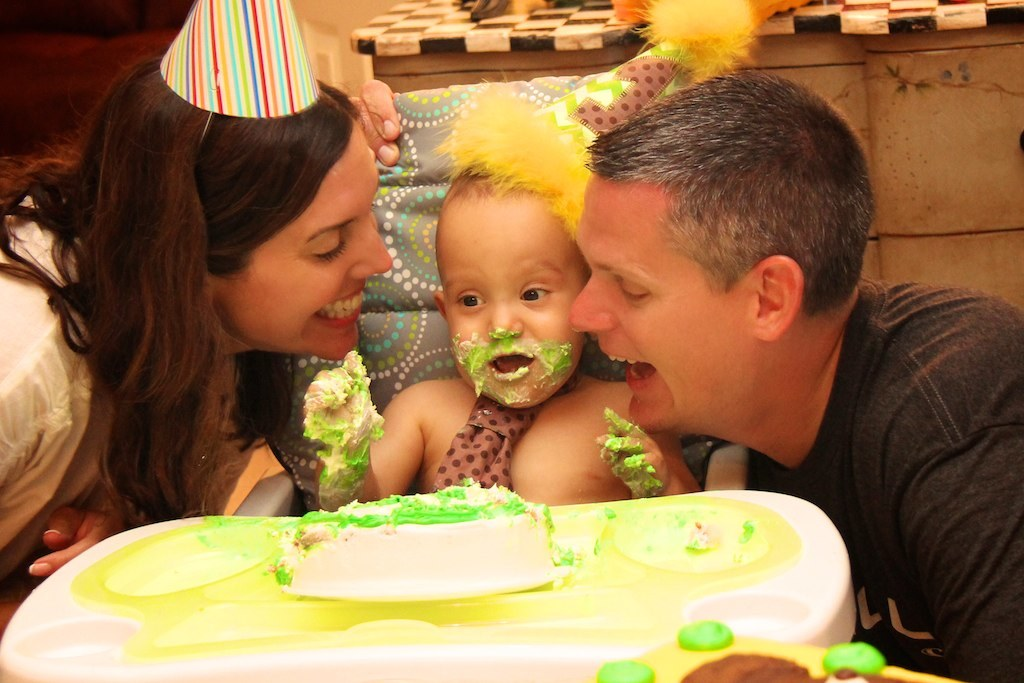cake: (250, 484, 568, 593)
